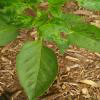Bell_pepper leaf: (16, 44, 59, 100), (37, 17, 74, 55), (67, 22, 99, 53), (0, 20, 19, 46), (59, 13, 86, 26)
